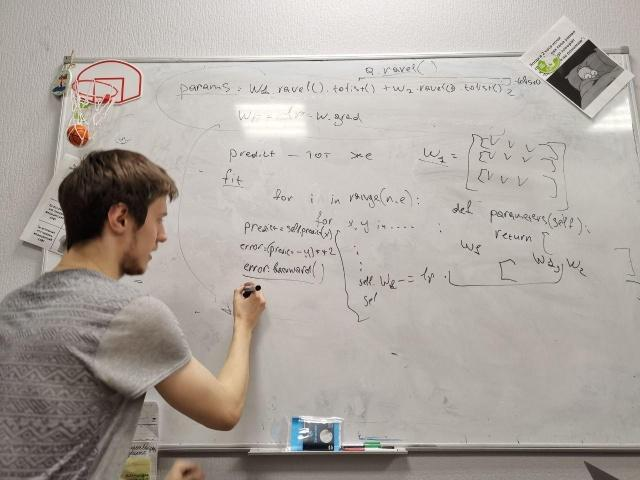Whiteboard: (37, 44, 639, 456)
